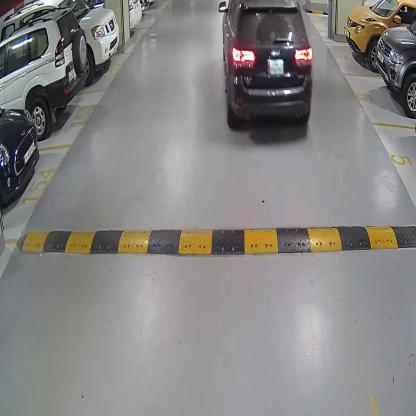np: (266, 57, 284, 76)
